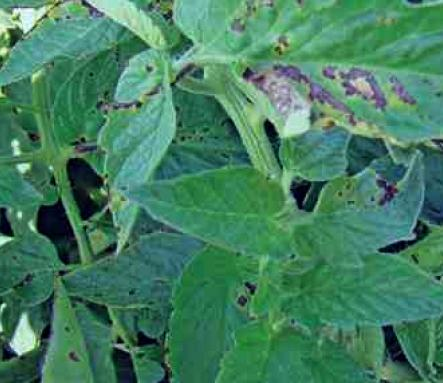Tomato Early blight leaf: (152, 0, 443, 172)
Tomato leaf: (109, 169, 300, 259), (304, 263, 443, 325), (294, 339, 397, 383)
